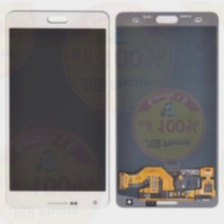phone: (2, 8, 111, 211), (115, 8, 220, 210)
